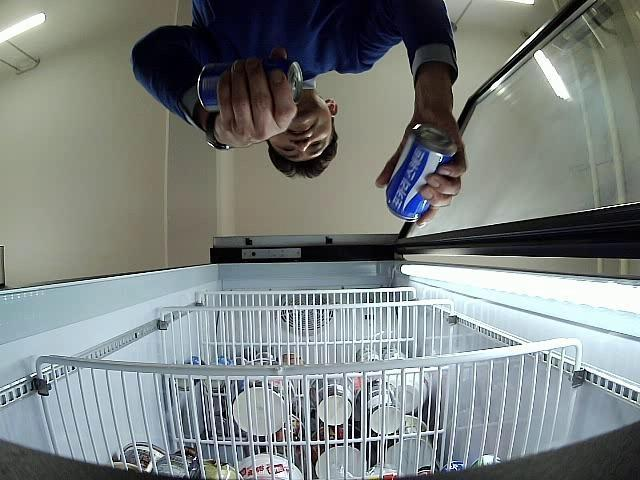13_pocariSweat: (386, 124, 459, 222), (198, 61, 304, 110)
